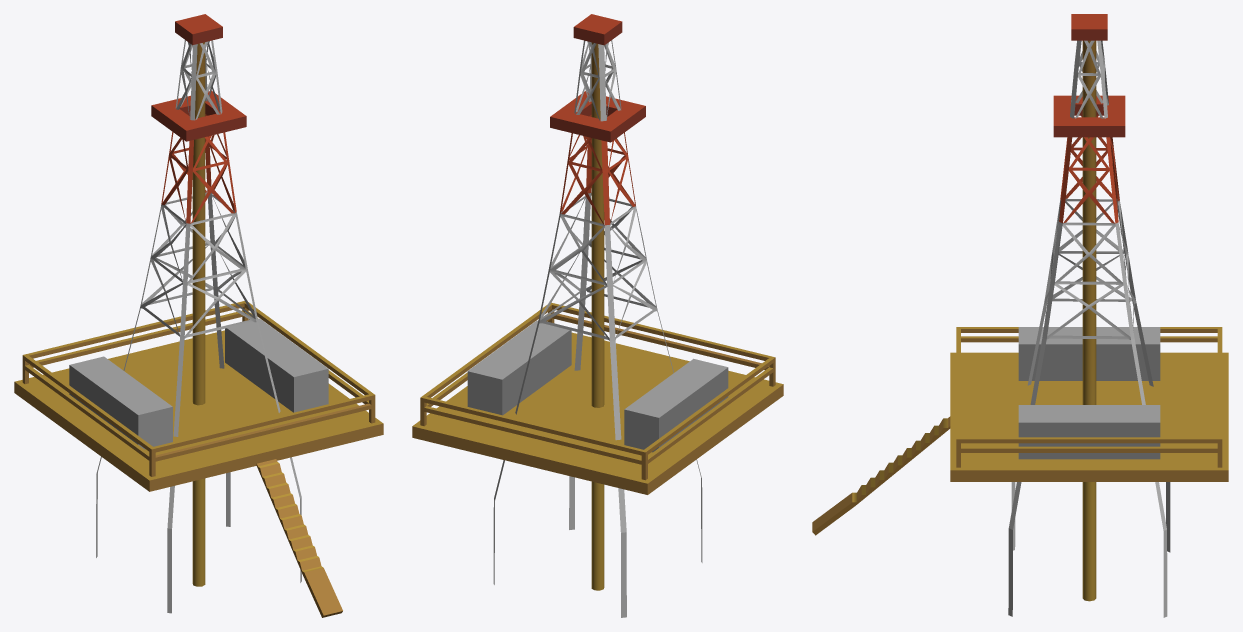
Rendered from Industrial_OnshoreOilRig.glb.
3 views of the same model, side by side, from view 1: azimuth 30°, elevation 25°; view 2: azimuth 150°, elevation 25°; view 3: azimuth 270°, elevation 25° (orthographic). The views are drawn at different scales.
Parts seen in each view (by area): view 1: base.017, DblSided; view 2: base.017, DblSided; view 3: base.017, DblSided.
Part boxes in pixels (x1,y1,x2,y2): base.017: (14, 14, 383, 617); DblSided: (96, 40, 301, 613); base.017: (412, 14, 783, 590); DblSided: (493, 40, 702, 617); base.017: (812, 14, 1228, 601); DblSided: (1008, 40, 1170, 617).
Bounding box in the file's own units: 34.55 × 79.01 × 51.67.
